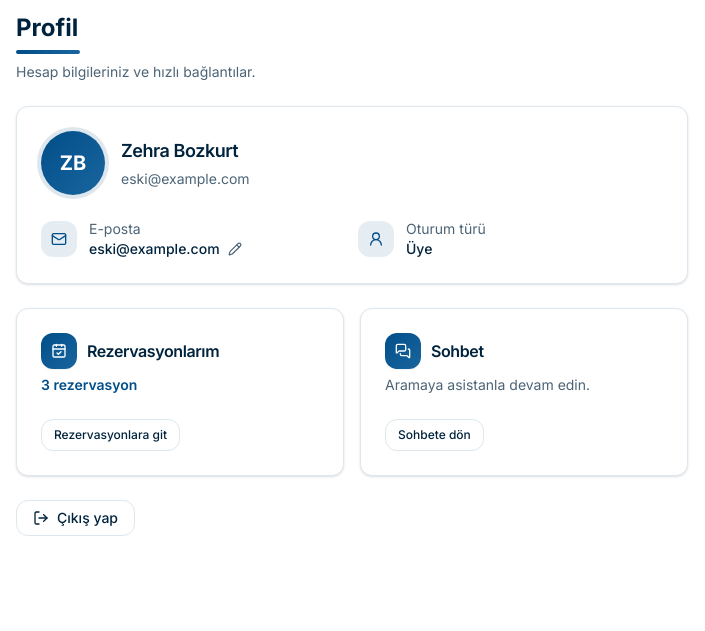
Test: ProfilePage e-posta düzenleme › geçersiz biçimli e-postayı backend’e gitmeden reddeder
Click the button named "E-postayı düzenle". click: x=235, y=249
box: [228,242,242,256]
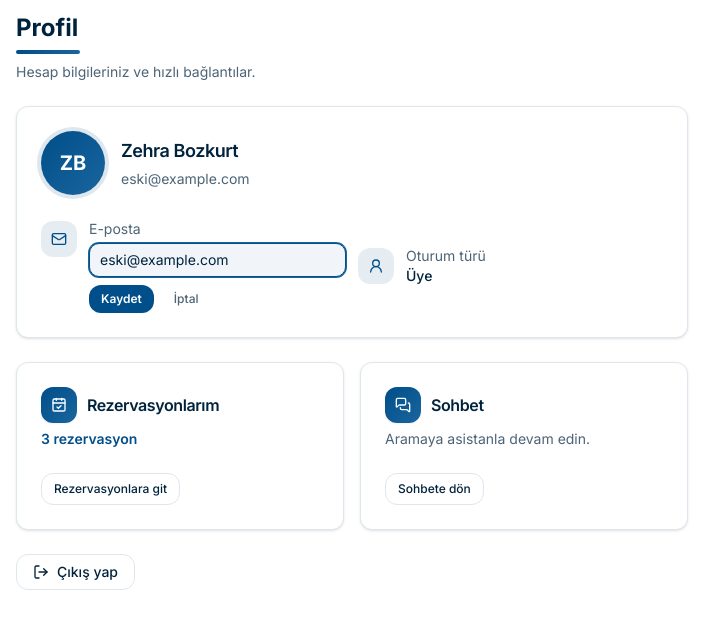
Replace the text in the field named "E-posta" with "gecersiz". click: x=218, y=260
box: [89,243,346,277]
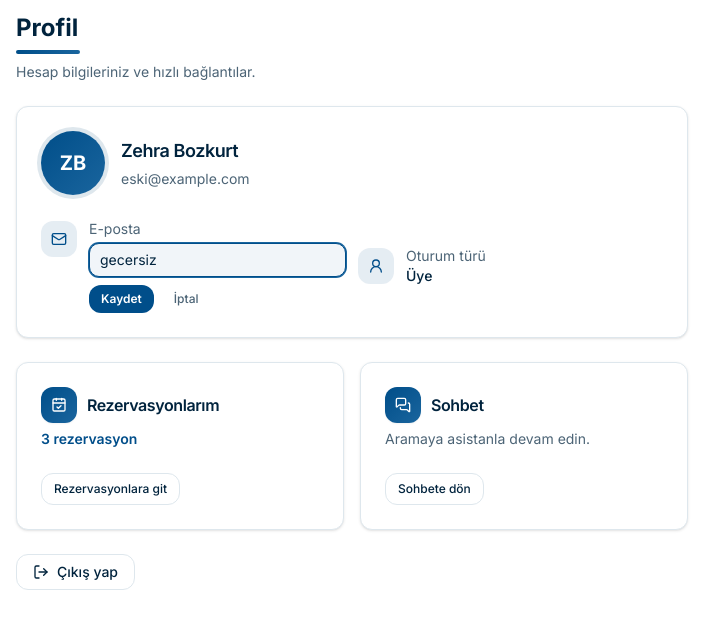
Click the button "Kaydet". click: x=121, y=299
box: [89,285,154,313]
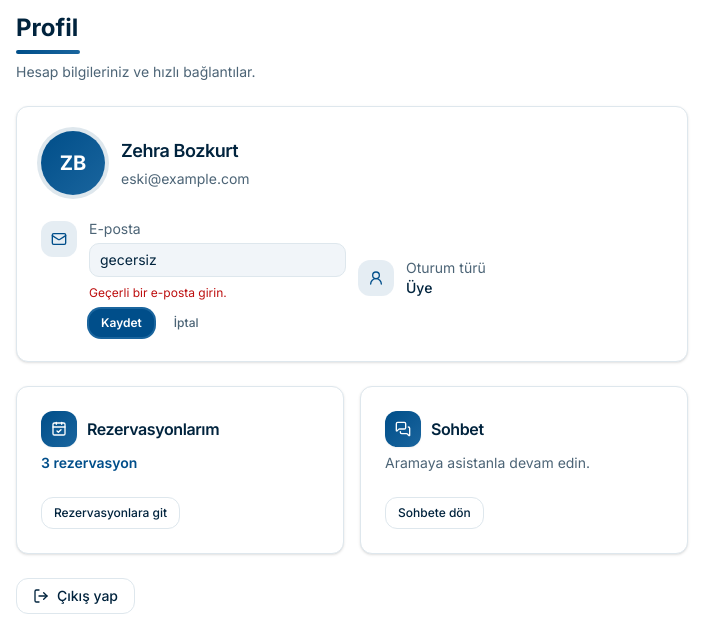
expect the text "eski@example.com" is shown: met, box [121,169,250,189]
expect the message reads "Geçerli bir e-posta girin.": met, box [89,285,227,300]
